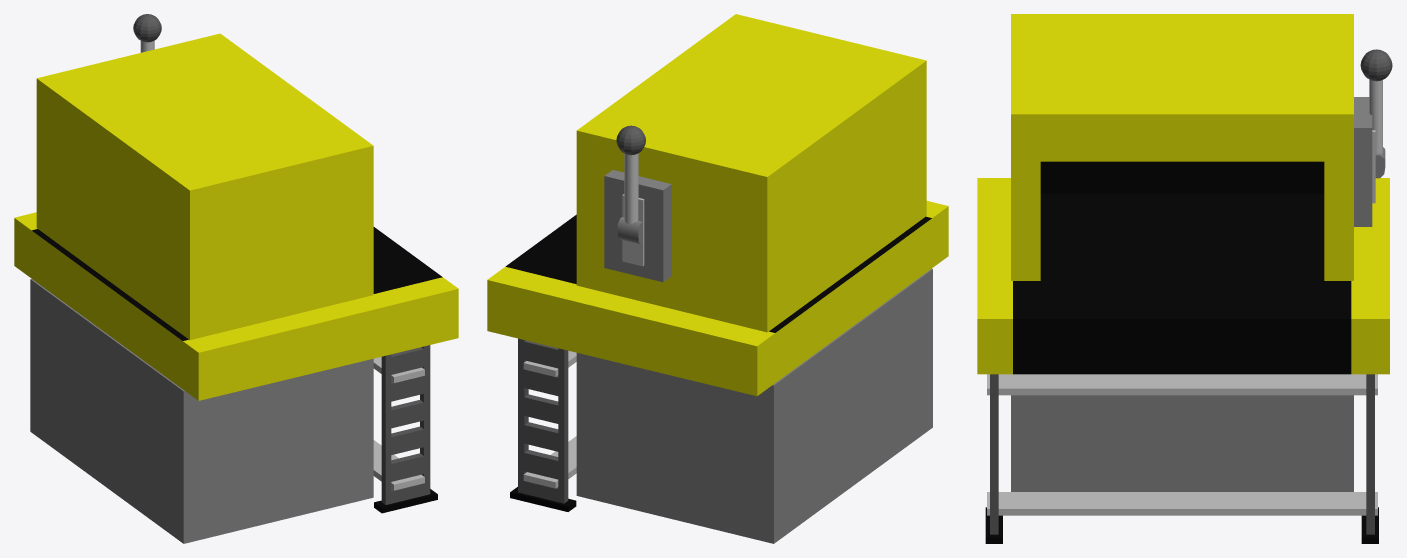
Rendered from ConveyorBeltScrapMachine.fbx.
The picture shows the model from 3 angles, left to right: view 1: azimuth 30°, elevation 25°; view 2: azimuth 150°, elevation 25°; view 3: azimuth 270°, elevation 25°; orthographic projection. The views are drawn at different scales.
Visible parts, largest first — view 1: polySurface37, polySurface1; view 2: polySurface37, polySurface5, polySurface1; view 3: polySurface37, polySurface5, polySurface1.
Boxes of the visible parts, left/top/right/bottom form: polySurface37: left=14, top=33, right=458, bottom=543; polySurface1: left=133, top=14, right=161, bottom=52; polySurface37: left=487, top=14, right=948, bottom=543; polySurface5: left=604, top=170, right=671, bottom=282; polySurface1: left=616, top=125, right=645, bottom=223; polySurface37: left=977, top=14, right=1389, bottom=543; polySurface5: left=1354, top=97, right=1385, bottom=226; polySurface1: left=1360, top=49, right=1392, bottom=153.
Bounding box in the file's own units: 1.78 × 2.52 × 2.21.
